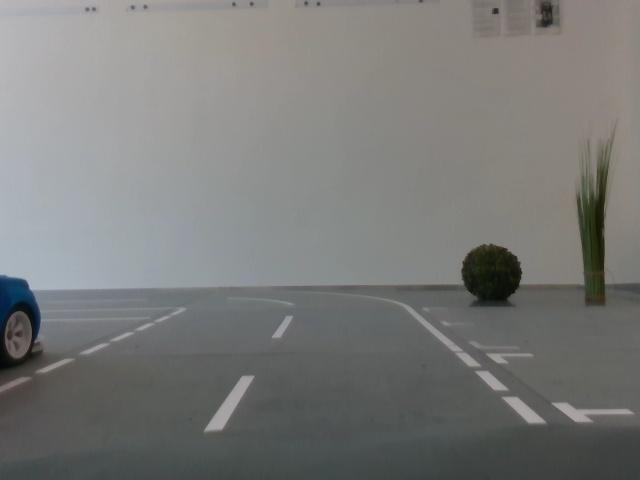car: (1, 266, 48, 367)
potted plant: (577, 142, 612, 307), (462, 245, 529, 308)
